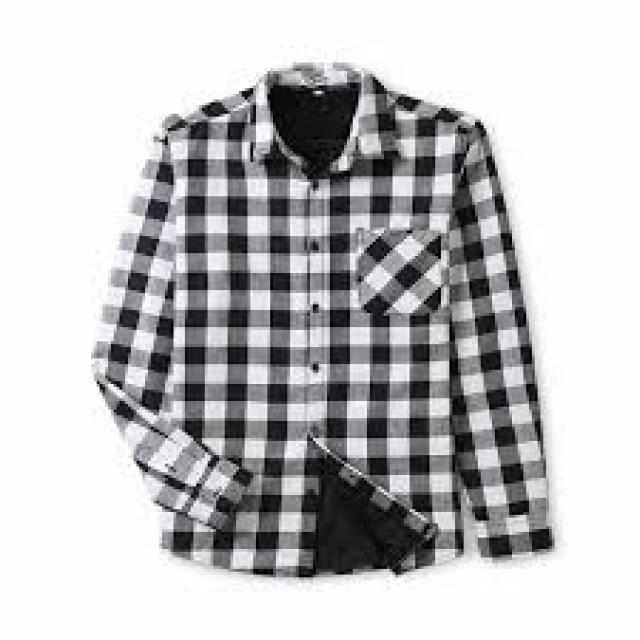plaid: (81, 55, 574, 591)
